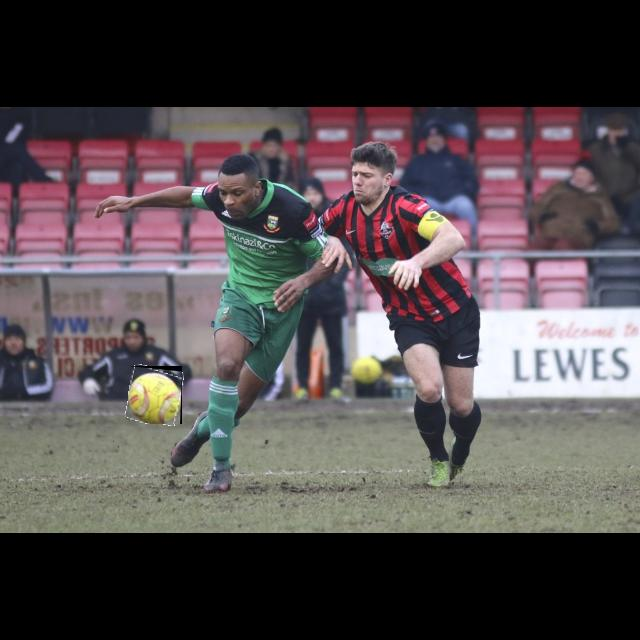Football: (128, 366, 182, 424)
